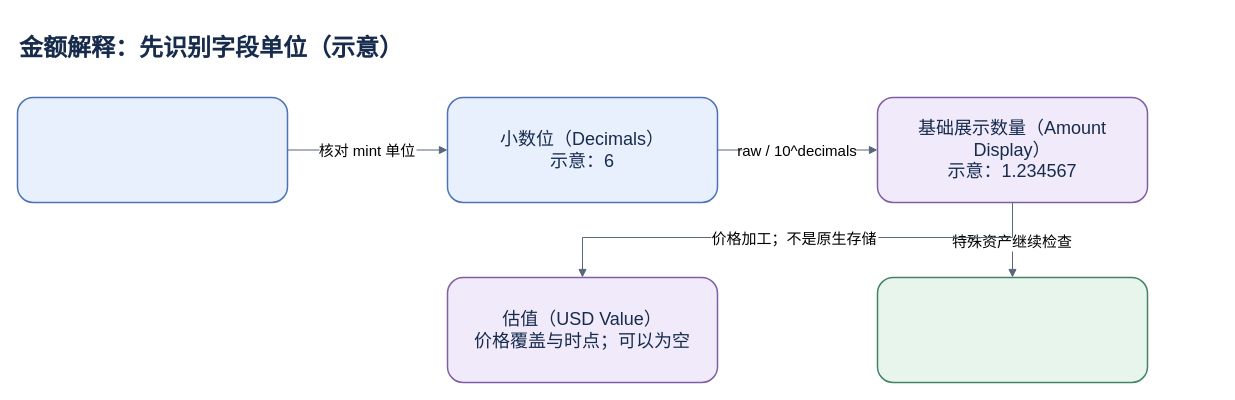
Image size: 1235x400. Some labels were removed from this diagram. The shapes that lost their labels are listed below. From the top down, each one's box as (x1, y1, x2, y2) in pixels, then its label:
(16, 96, 288, 203): 原始数量（Raw Amount） 例如整数 1234567
(876, 276, 1148, 383): 扩展规则（Token Extensions） 费用 / scaled UI 等另需解释
